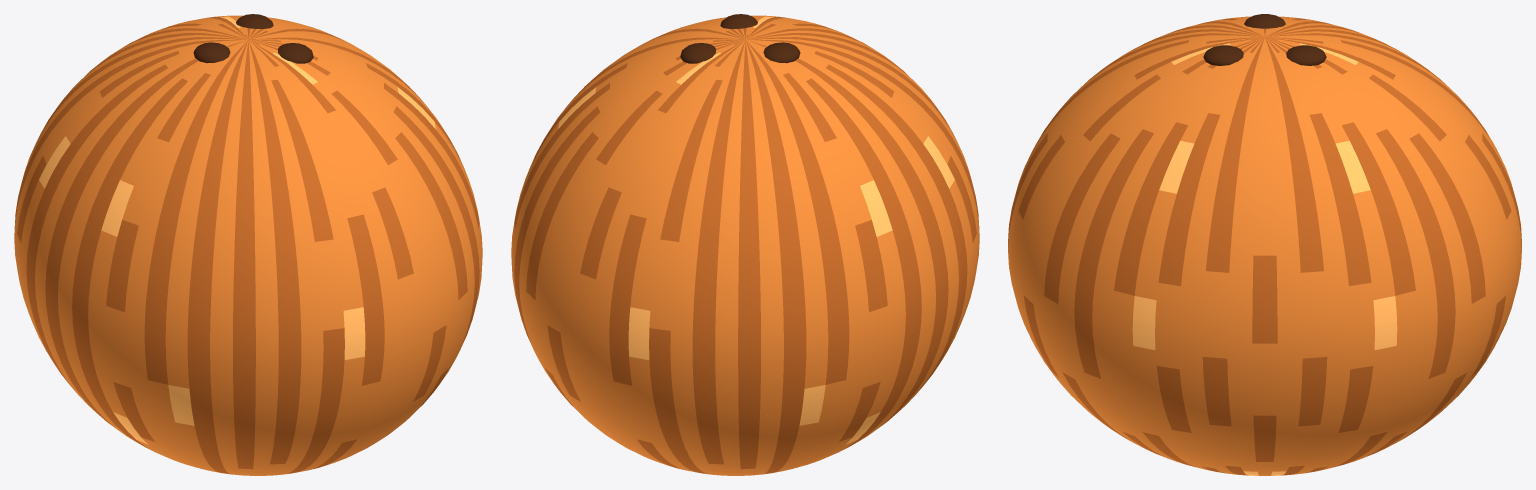
3 views of the same model, side by side, from view 1: azimuth 30°, elevation 25°; view 2: azimuth 150°, elevation 25°; view 3: azimuth 270°, elevation 25° (orthographic).
Visible parts, largest first — view 1: Coconut-whole; view 2: Coconut-whole; view 3: Coconut-whole.
Part boxes in pixels (x1=…): Coconut-whole: x1=14, y1=14, x2=482, y2=475; Coconut-whole: x1=511, y1=14, x2=979, y2=475; Coconut-whole: x1=1008, y1=14, x2=1521, y2=475.
Bounding box in the file's own units: 0.7952 × 0.8 × 0.8857.
